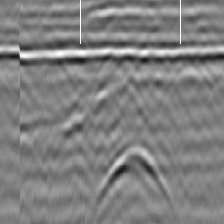Utility: (96, 141, 175, 208)
